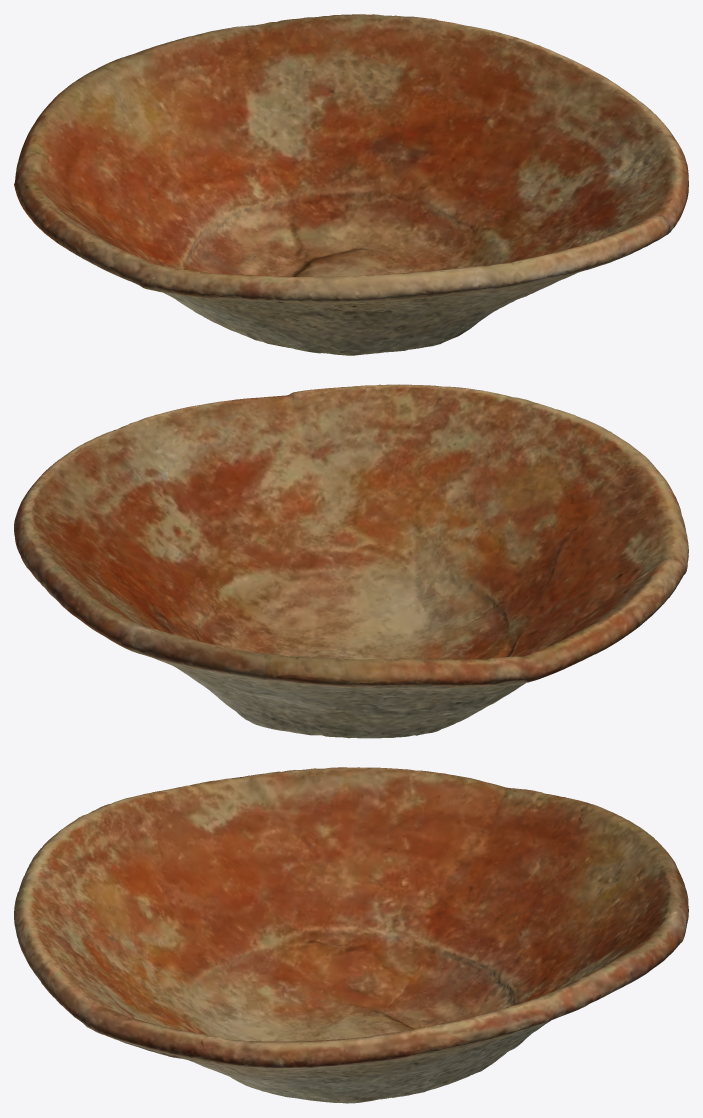
3 renders of one model, top to bottom at view 1: azimuth 30°, elevation 25°; view 2: azimuth 150°, elevation 25°; view 3: azimuth 270°, elevation 25°, orthographic. The views are drawn at different scales.
Parts seen in each view (by area): view 1: Mesh_0.007; view 2: Mesh_0.007; view 3: Mesh_0.007.
Part boxes in pixels (x1,y1,x2,y2): Mesh_0.007: (14, 14, 688, 355); Mesh_0.007: (14, 384, 688, 738); Mesh_0.007: (14, 767, 688, 1103).
Bounding box in the file's own units: 0.2387 × 0.0644 × 0.2372.
1 material, 1 textured.
